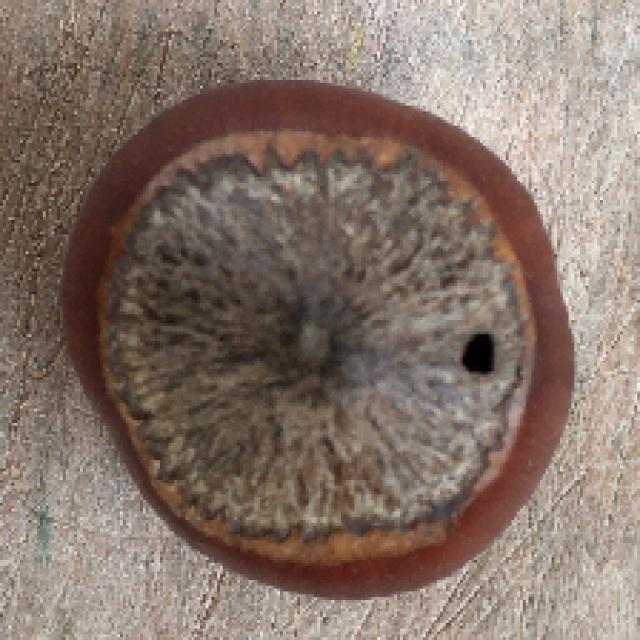damagedHazelnut: (57, 77, 577, 595)
